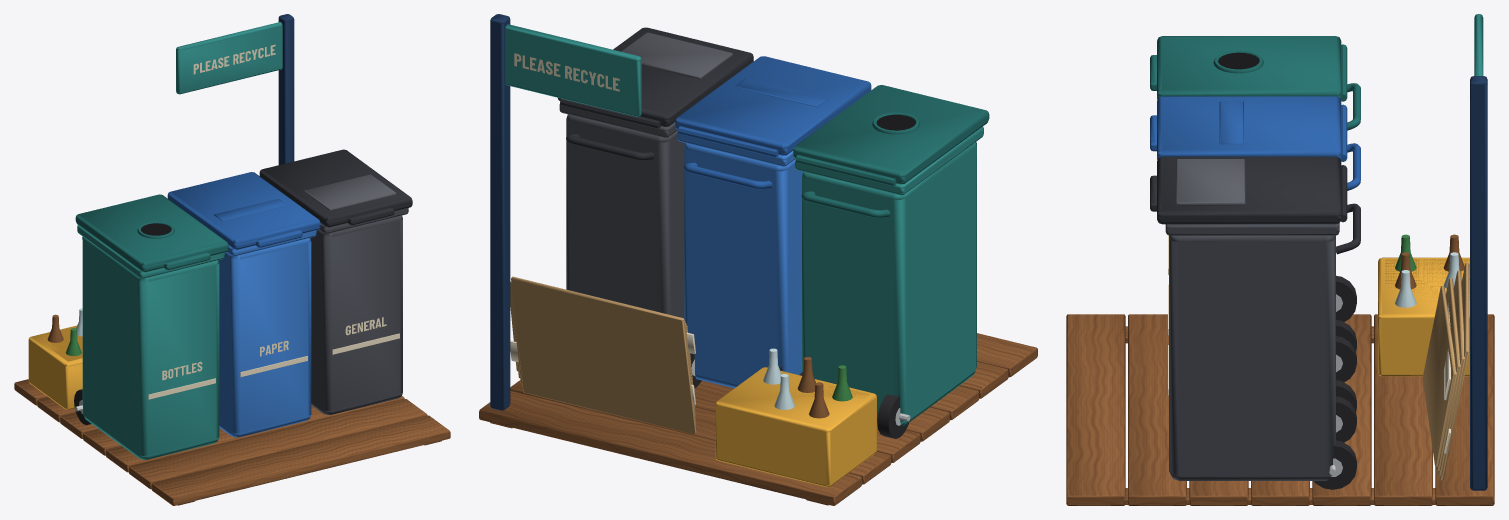
The model's file is waste_bin.glb.
3 renders of one model, left to right at view 1: azimuth 30°, elevation 25°; view 2: azimuth 150°, elevation 25°; view 3: azimuth 270°, elevation 25°, orthographic. The views are drawn at different scales.
Visible parts, largest first — view 1: WasteBinsMesh; view 2: WasteBinsMesh, Handle2, Handle0, Handle1; view 3: WasteBinsMesh, Handle2.
Part boxes in pixels (x1,y1,x2,y2): WasteBinsMesh: (14,14,450,505); WasteBinsMesh: (479,14,1037,505); Handle2: (566,133,654,160); Handle0: (801,191,890,217); Handle1: (683,162,772,189); WasteBinsMesh: (1066,14,1494,505); Handle2: (1336,203,1360,254).
Bounding box in the file's own units: 1.24 × 1.35 × 1.23.
Materials: 24 (4 with a texture image).
